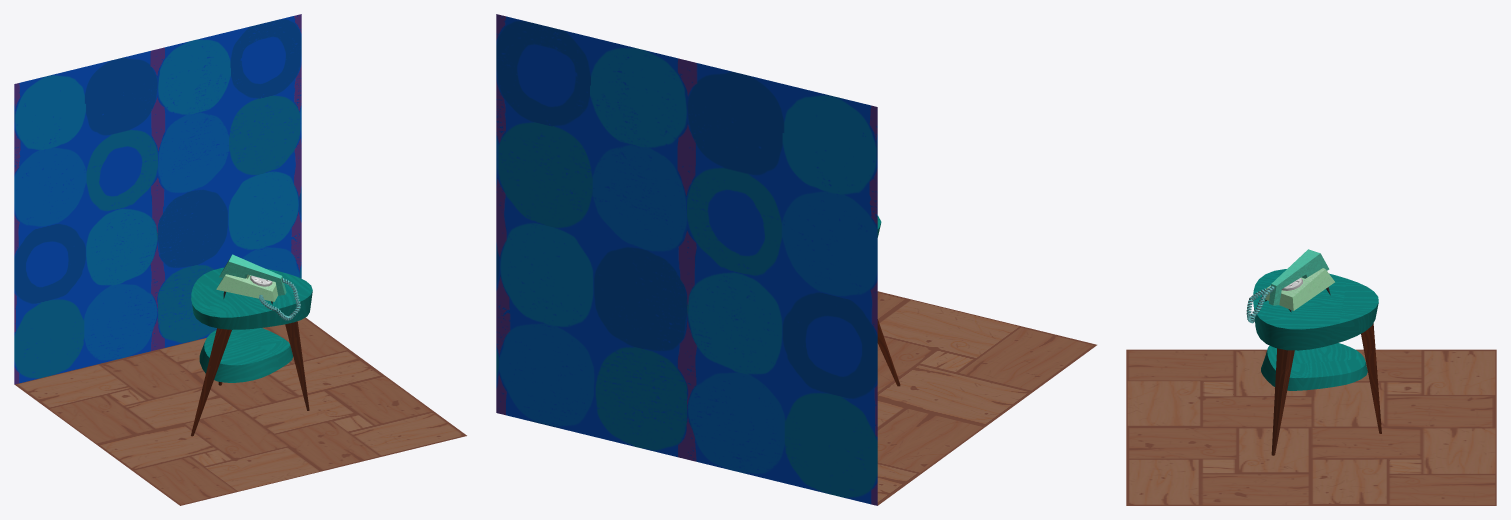
3 views of the same model, side by side, from view 1: azimuth 30°, elevation 25°; view 2: azimuth 150°, elevation 25°; view 3: azimuth 270°, elevation 25° (orthographic). The views are drawn at different scales.
Parts seen in each view (by area): view 1: wall_5, floor_1, table_2, phone_4; view 2: wall_5, floor_1; view 3: floor_1, table_2, phone_4.
Boxes of the visible parts, bbox=[...] form: wall_5: bbox=[14, 14, 301, 384]; floor_1: bbox=[15, 317, 466, 505]; table_2: bbox=[191, 267, 312, 436]; phone_4: bbox=[216, 254, 286, 304]; wall_5: bbox=[496, 14, 877, 505]; floor_1: bbox=[877, 291, 1096, 505]; floor_1: bbox=[1126, 349, 1496, 505]; table_2: bbox=[1253, 269, 1381, 455]; phone_4: bbox=[1265, 249, 1334, 312].
Bounding box in the file's own units: 1.86 × 1.86 × 1.86.
4 materials, 4 textured.
